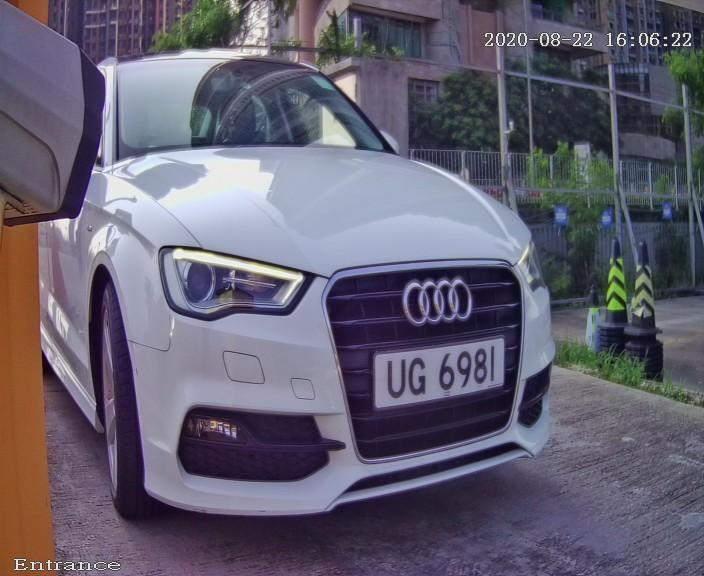Car: (29, 13, 601, 548)
License Plate: (334, 314, 532, 426)
